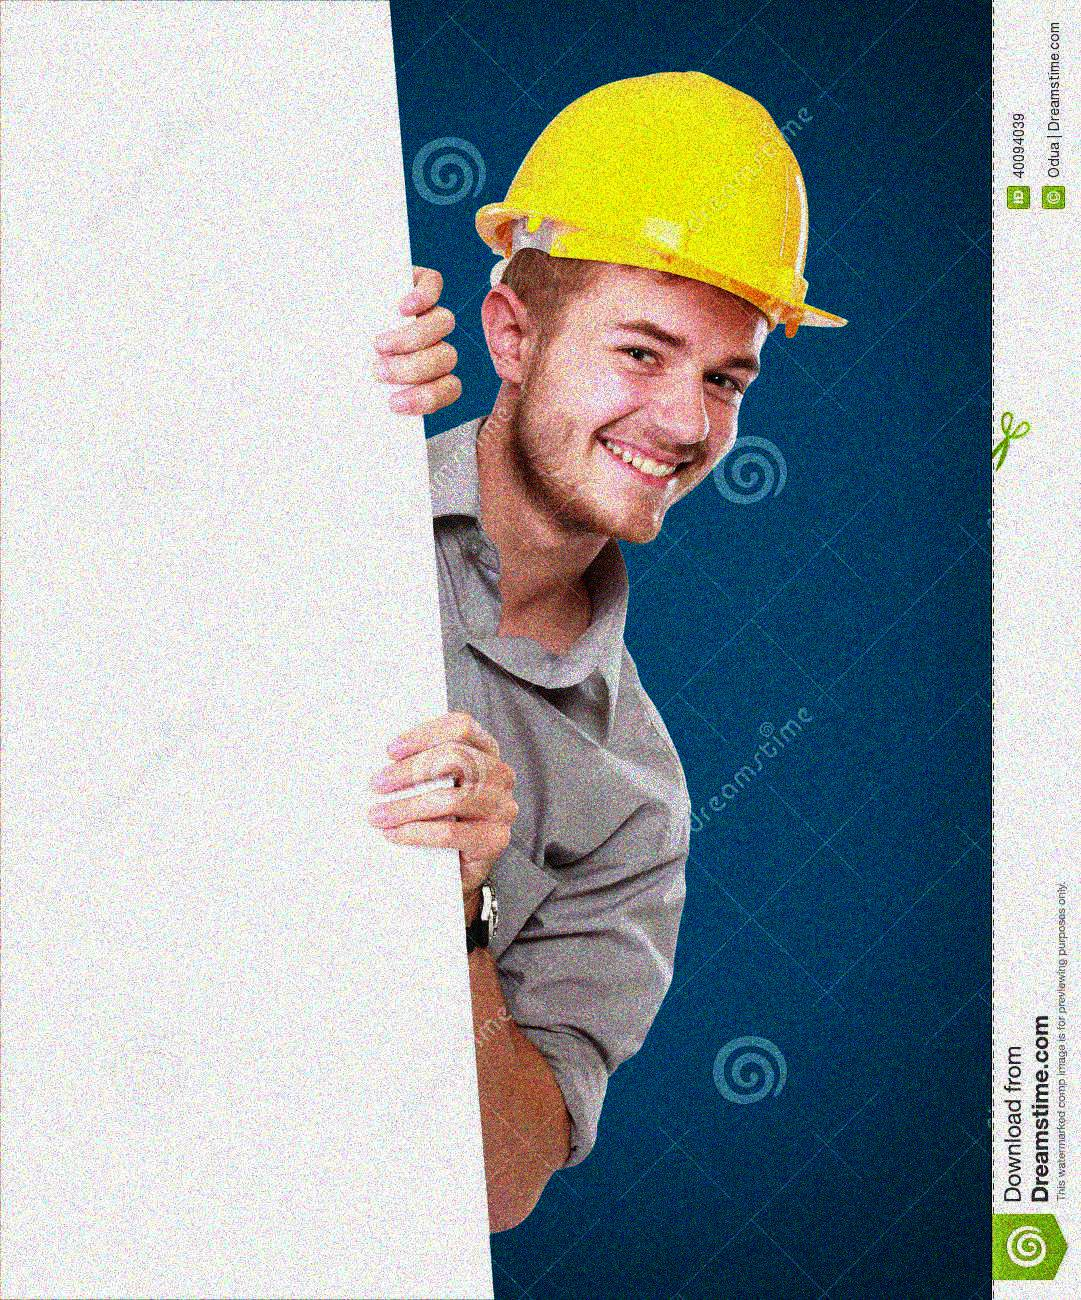helmet: (474, 58, 844, 547)
